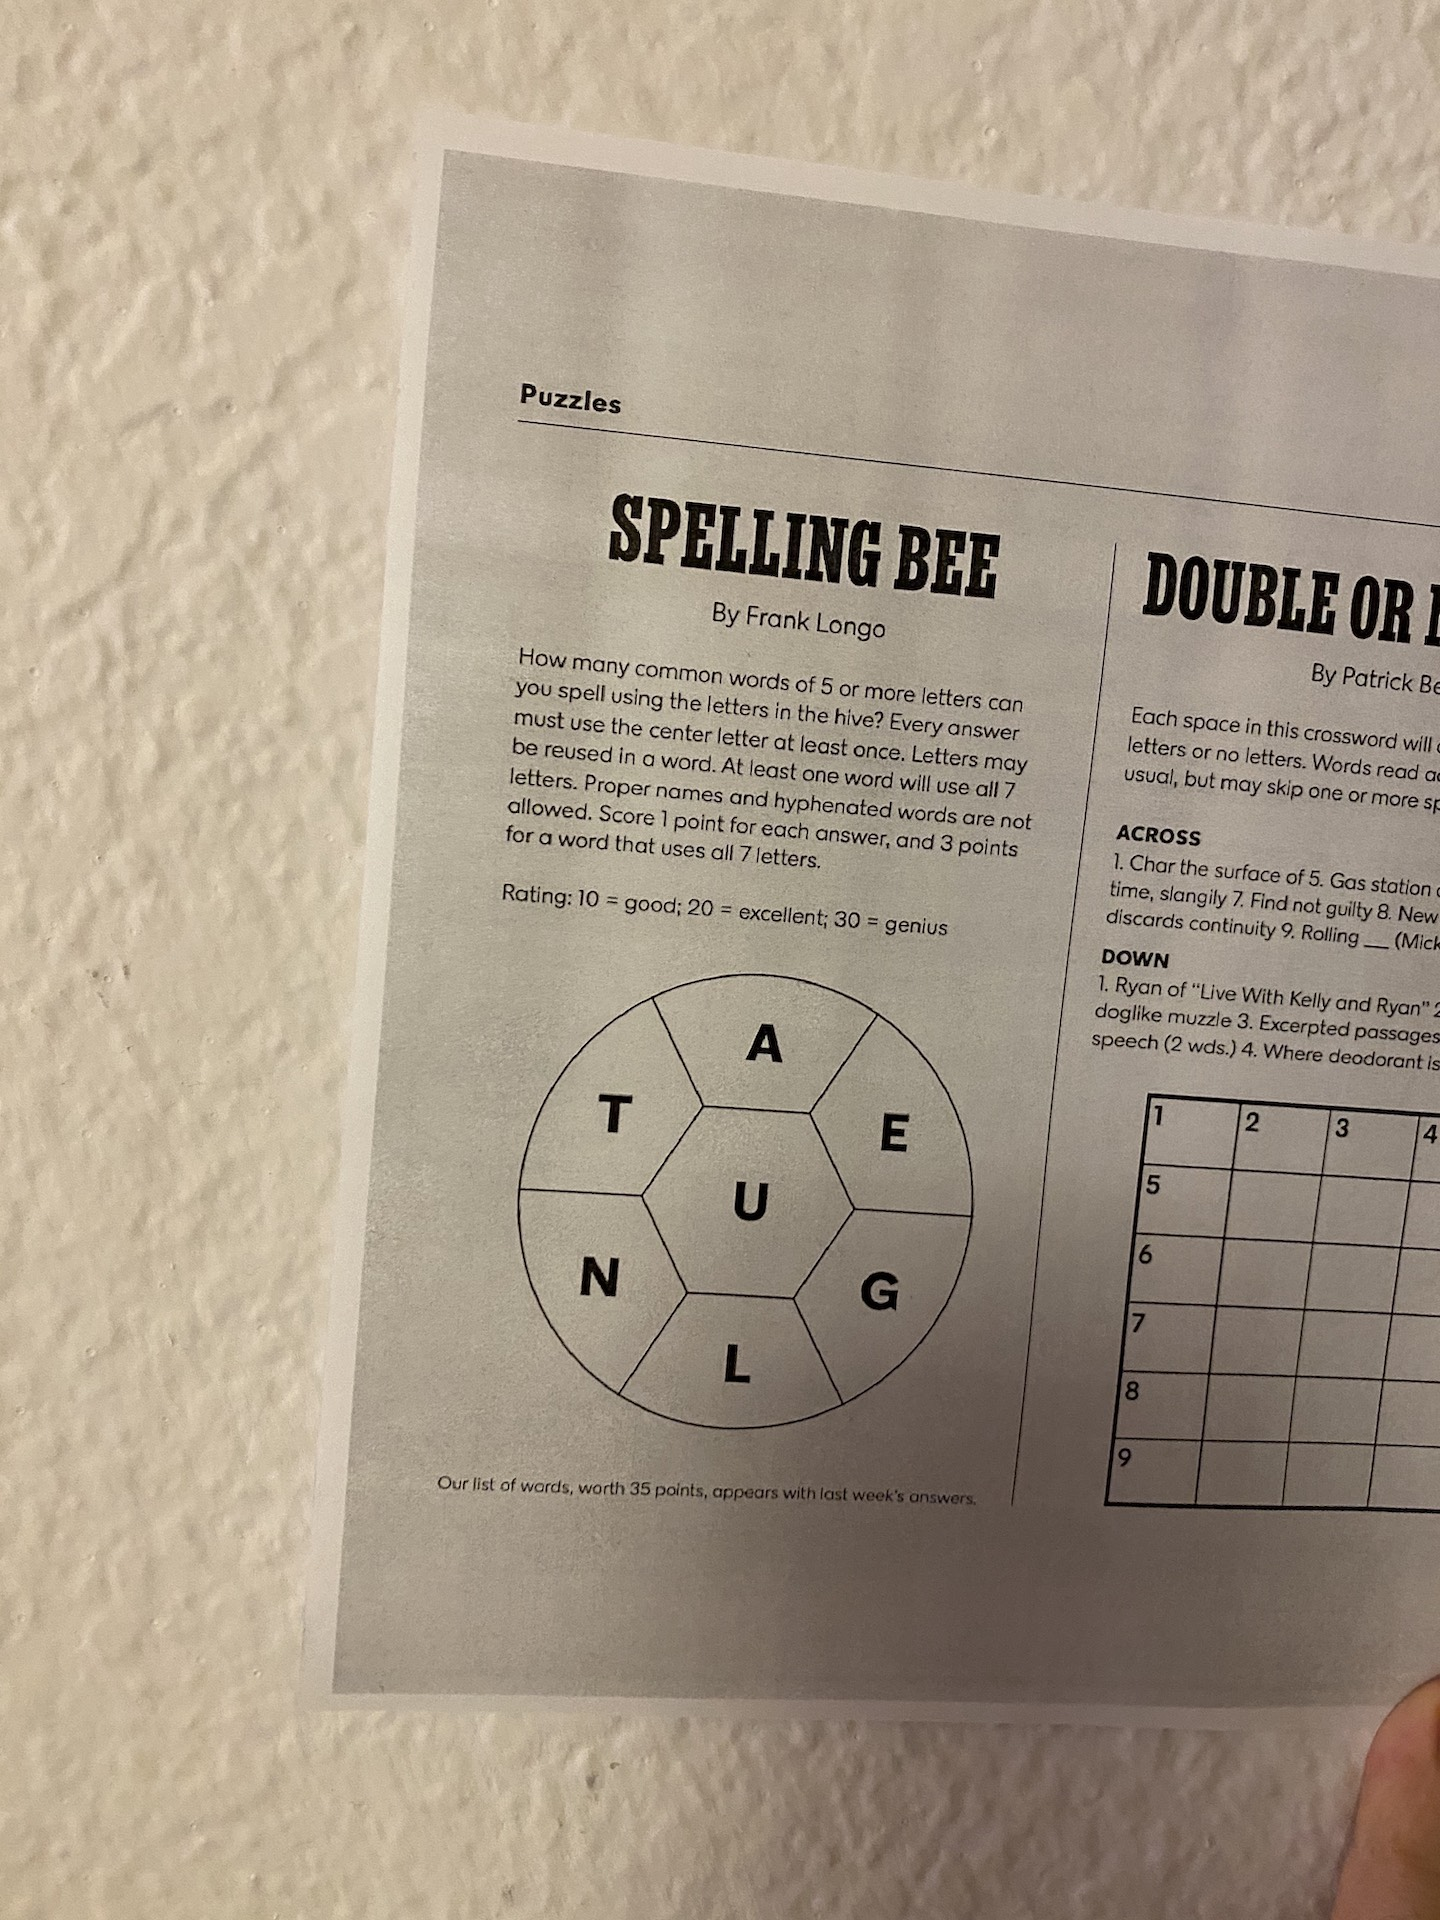PrintBoard: (504, 958, 988, 1451)
